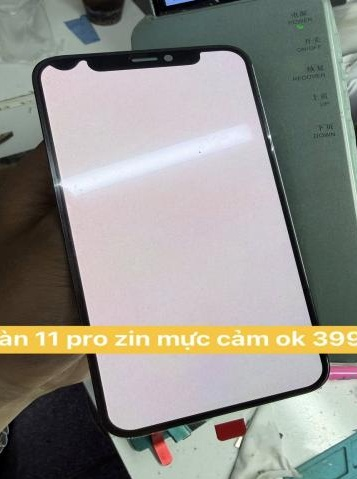screen_defect: (43, 49, 97, 87)
